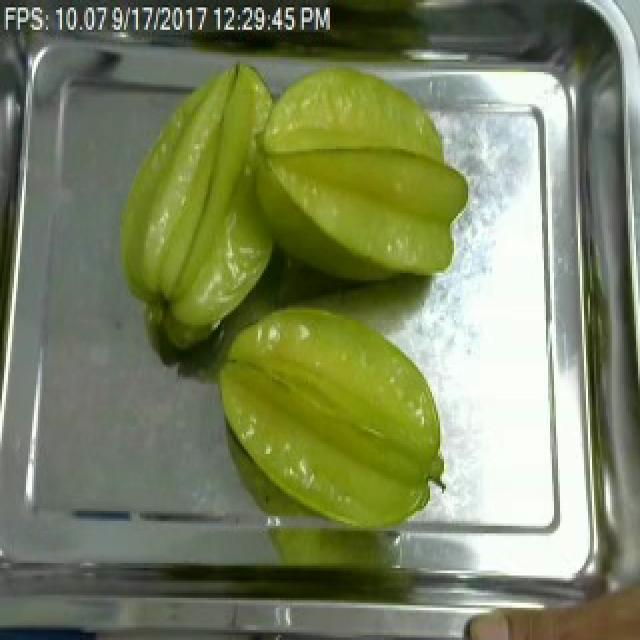fruit: (200, 295, 452, 538), (108, 49, 290, 344), (244, 57, 476, 285)
